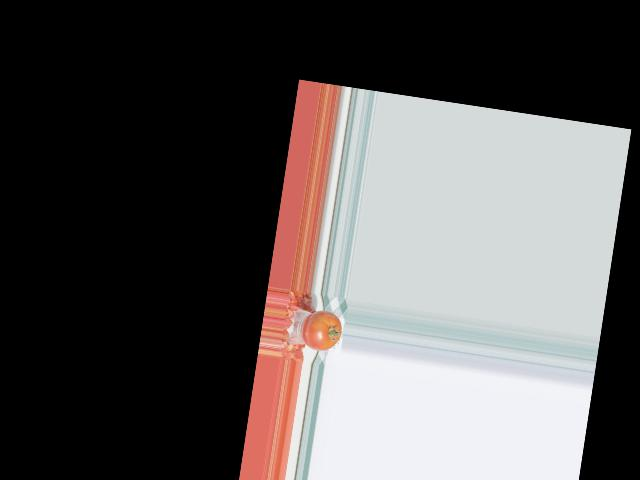tomato: (299, 307, 344, 354)
